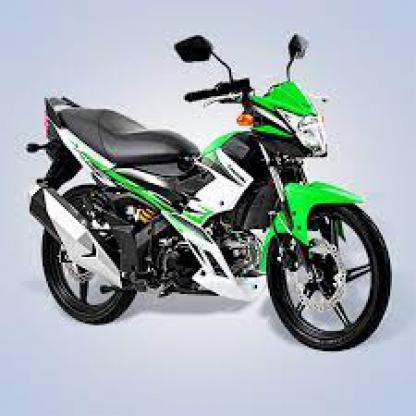Motorcycle: (19, 21, 397, 360)
